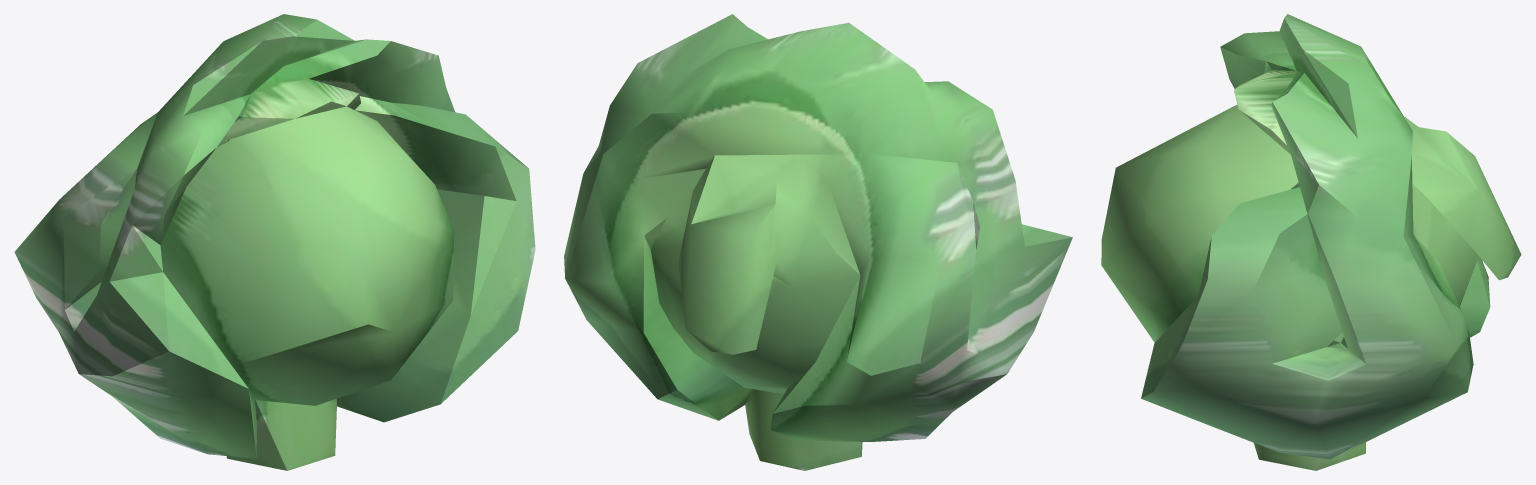
3 renders of one model, left to right at view 1: azimuth 30°, elevation 25°; view 2: azimuth 150°, elevation 25°; view 3: azimuth 270°, elevation 25°, orthographic.
Parts seen in each view (by area): view 1: cabbage; view 2: cabbage; view 3: cabbage.
Boxes of the visible parts, <box> form: cabbage: <box>14,14,535,470</box>; cabbage: <box>564,14,1072,470</box>; cabbage: <box>1101,14,1521,470</box>.
Size of the model in its own units: 0.278 by 0.28 by 0.2575.
Materials: 1 (1 with a texture image).
